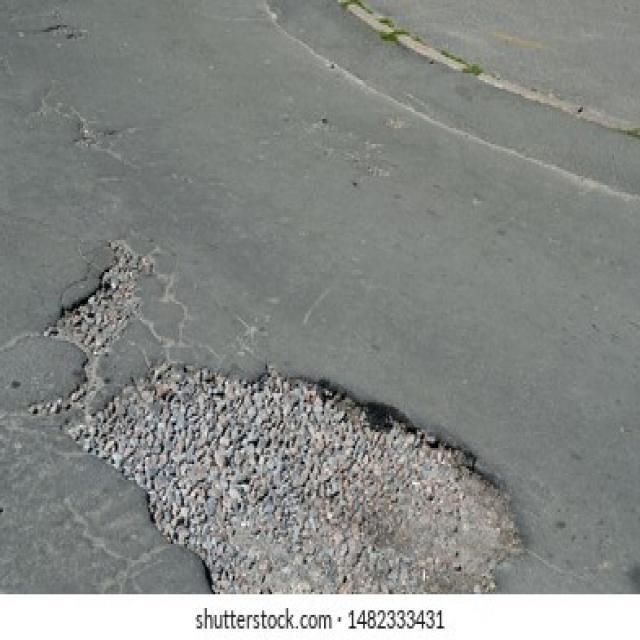pothole: (64, 364, 527, 595), (52, 240, 153, 361), (75, 121, 118, 151), (46, 23, 66, 34), (67, 30, 82, 42)
